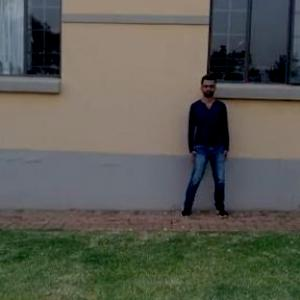follow: (190, 72, 232, 218)
